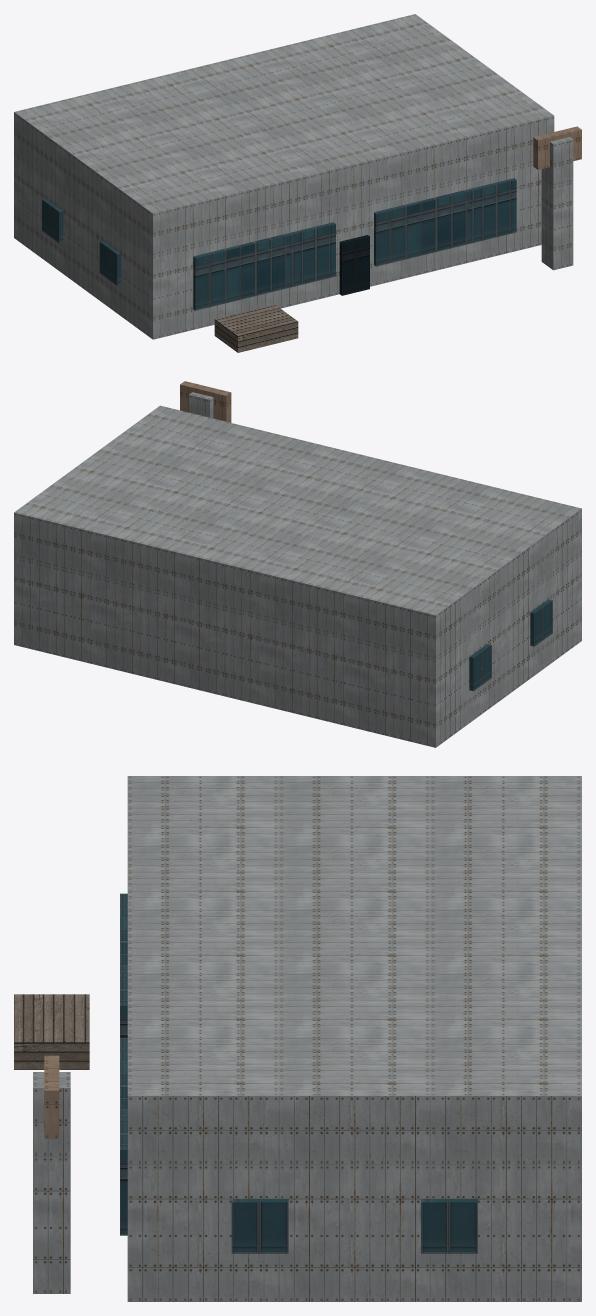
File: neighborhood-diner_lod0.gltf
3 views of the same model, one above another, from view 1: azimuth 30°, elevation 25°; view 2: azimuth 150°, elevation 25°; view 3: azimuth 270°, elevation 25° (orthographic). The views are drawn at different scales.
Visible parts, largest first — view 1: neighborhood-diner_main, neighborhood-diner_fen_07-glass-curtain-blue_0, neighborhood-diner__neon_pylon, neighborhood-diner__tables, neighborhood-diner_fen_07-glass-curtain-blue_1_t, neighborhood-diner__neon_cabinet; view 2: neighborhood-diner_main, neighborhood-diner_fen_07-glass-curtain-blue_0, neighborhood-diner__neon_cabinet, neighborhood-diner__neon_pylon; view 3: neighborhood-diner_main, neighborhood-diner_fen_07-glass-curtain-blue_0, neighborhood-diner__neon_pylon, neighborhood-diner__tables, neighborhood-diner__neon_cabinet.
Boxes of the visible parts, box(x1,y1,x2,y2) form: neighborhood-diner_main: box(14, 14, 554, 339); neighborhood-diner_fen_07-glass-curtain-blue_0: box(42, 178, 516, 310); neighborhood-diner__neon_pylon: box(541, 137, 573, 270); neighborhood-diner__tables: box(214, 304, 298, 352); neighborhood-diner_fen_07-glass-curtain-blue_1_t: box(339, 235, 369, 295); neighborhood-diner__neon_cabinet: box(533, 126, 581, 169); neighborhood-diner_main: box(14, 405, 581, 747); neighborhood-diner_fen_07-glass-curtain-blue_0: box(469, 599, 552, 691); neighborhood-diner__neon_cabinet: box(180, 381, 231, 422); neighborhood-diner__neon_pylon: box(189, 392, 213, 418); neighborhood-diner_main: box(127, 776, 581, 1301); neighborhood-diner_fen_07-glass-curtain-blue_0: box(120, 893, 477, 1253); neighborhood-diner__neon_pylon: box(33, 1072, 70, 1293); neighborhood-diner__tables: box(14, 994, 89, 1069); neighborhood-diner__neon_cabinet: box(44, 1055, 59, 1138).
Size of the model in its own units: 20.4 by 6.2 by 15.
